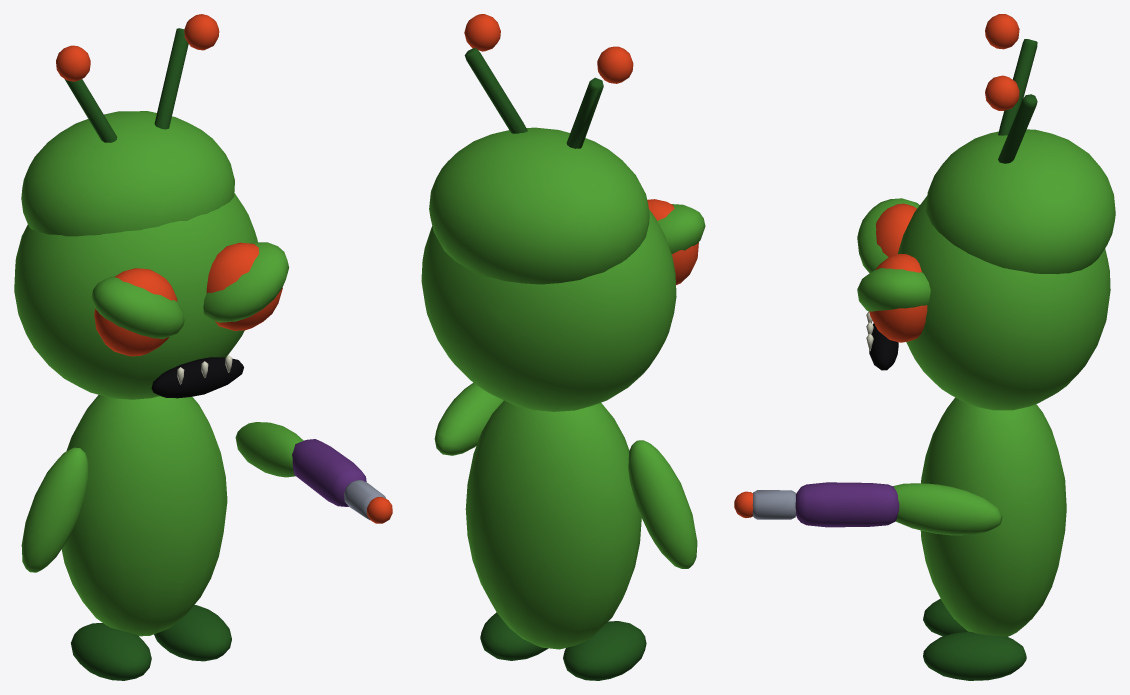
File: Gruenling.fbx
3 views of the same model, side by side, from view 1: azimuth 30°, elevation 25°; view 2: azimuth 150°, elevation 25°; view 3: azimuth 270°, elevation 25° (orthographic). The views are drawn at different scales.
Visible parts, largest first — view 1: Gruenling; view 2: Gruenling; view 3: Gruenling.
Part boxes in pixels (bbox=[...]): Gruenling: bbox=[14, 14, 392, 680]; Gruenling: bbox=[421, 14, 705, 680]; Gruenling: bbox=[734, 14, 1115, 680].
Bounding box in the file's own units: 0.6474 × 1.48 × 0.8369.
